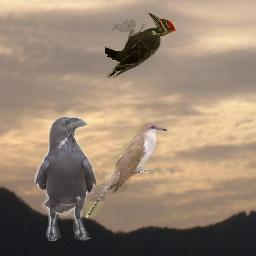Crow: (34, 116, 98, 241)
Cuckoo: (86, 122, 168, 218)
Woodpecker: (105, 13, 176, 79)
